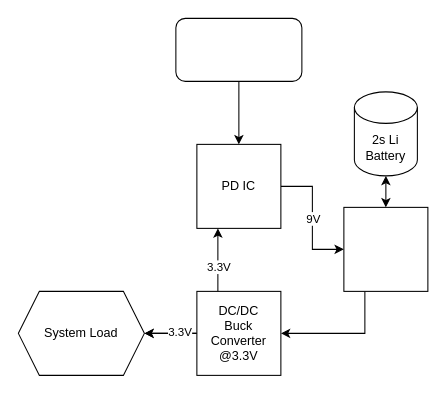
Image size: 446x394. Some labels were removed from this diagram. The centre of each missing label's shape, as x and y in pixels:
BMS + Charge: pixel 385 248
USB-C: pixel 238 49
